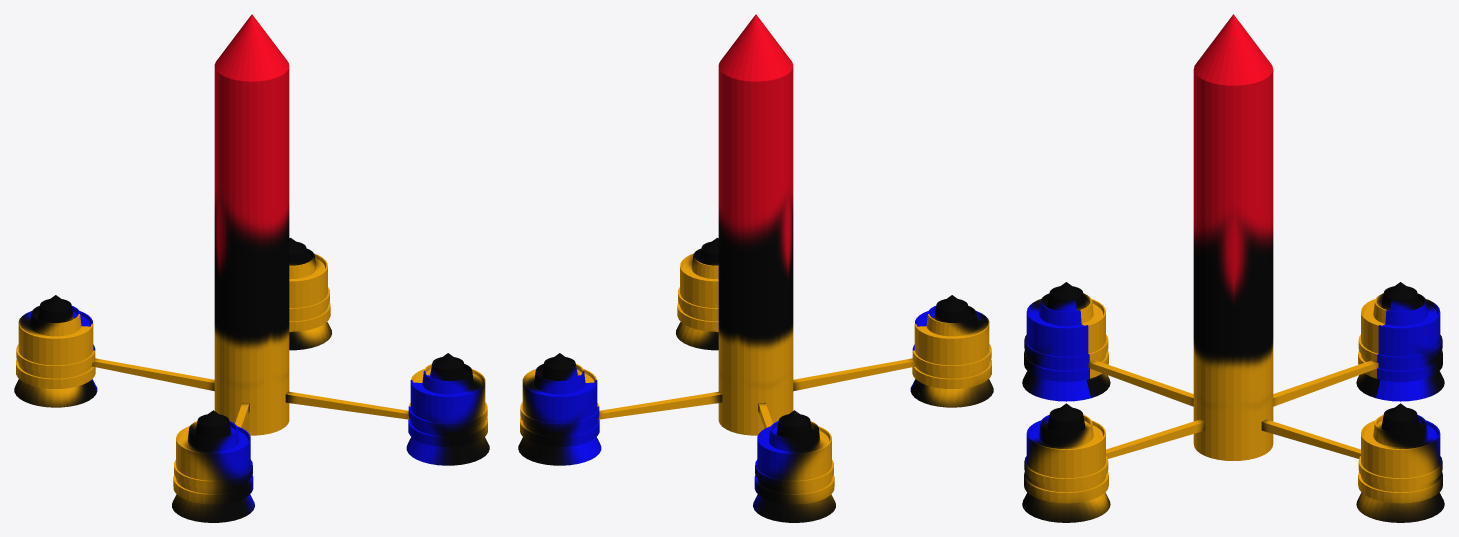
File: cruiser.fbx
The picture shows the model from 3 angles, left to right: view 1: azimuth 30°, elevation 25°; view 2: azimuth 150°, elevation 25°; view 3: azimuth 270°, elevation 25°; orthographic projection. The views are drawn at different scales.
Parts seen in each view (by area): view 1: Cylinder.001; view 2: Cylinder.001; view 3: Cylinder.001.
Part boxes in pixels (x1=…): Cylinder.001: x1=14, y1=14, x2=489, y2=522; Cylinder.001: x1=518, y1=14, x2=993, y2=522; Cylinder.001: x1=1022, y1=14, x2=1444, y2=522.
Bounding box in the file's own units: 947 × 1197 × 1065.
